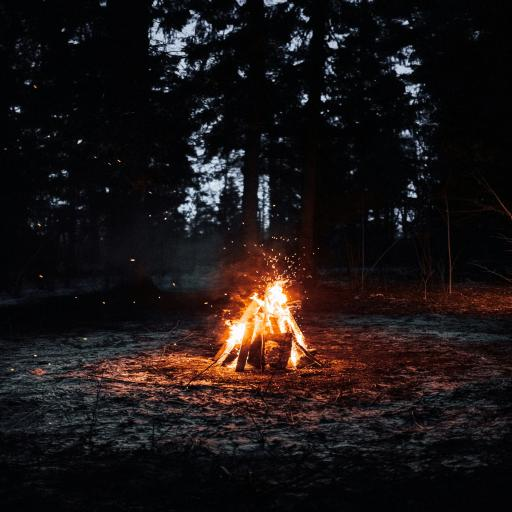campfire: (150, 242, 366, 377)
